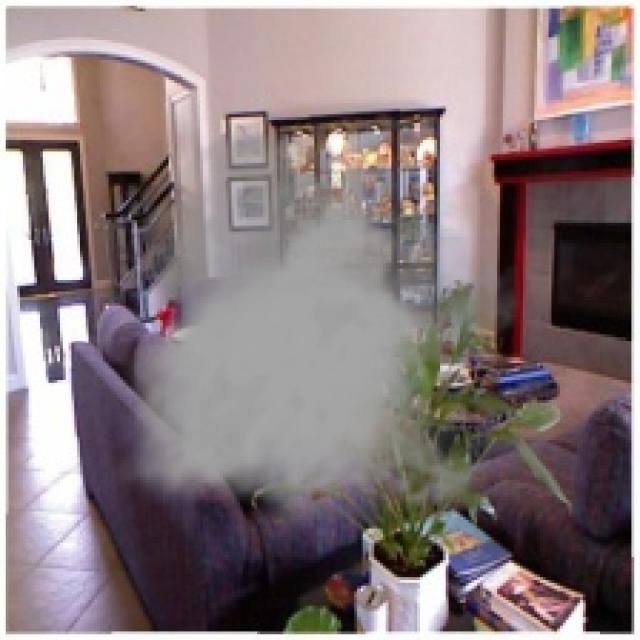smoke: (111, 126, 520, 520)
